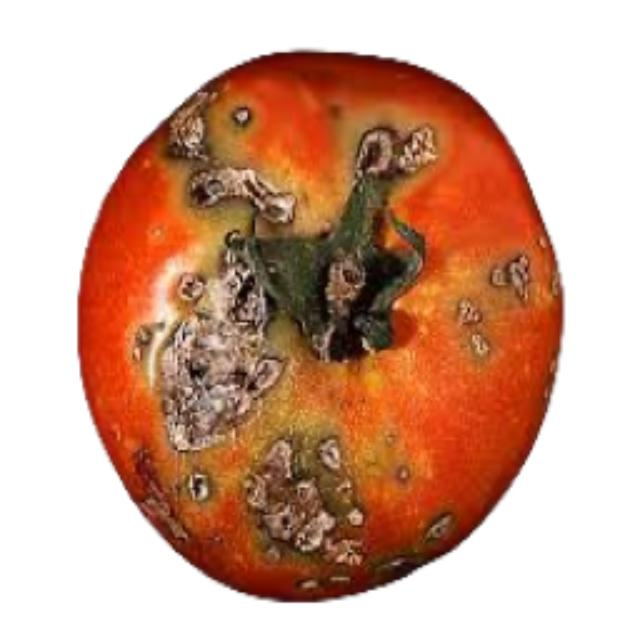defect: (68, 37, 571, 610)
